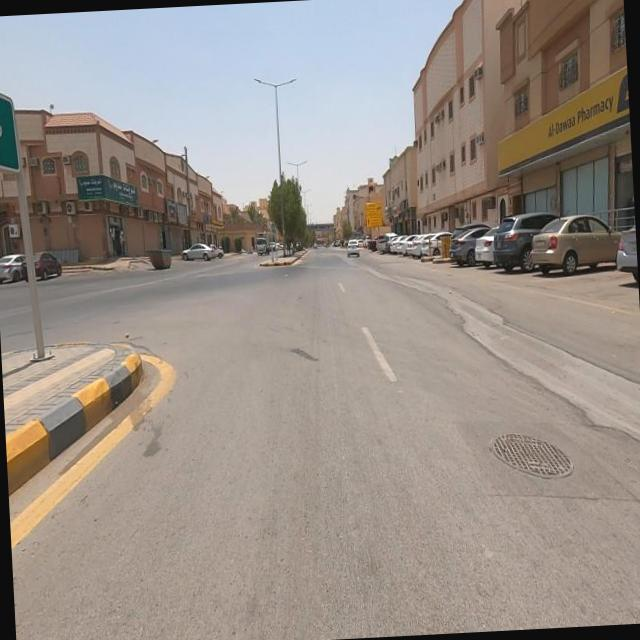debris: (162, 170, 206, 252)
